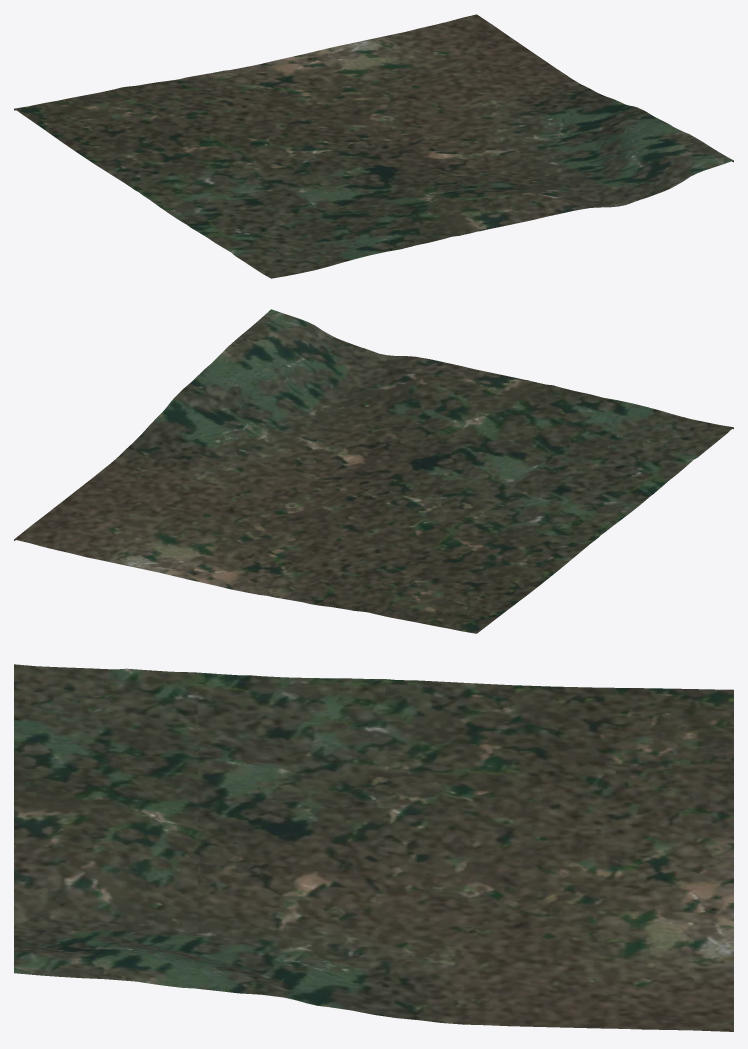
3 renders of one model, top to bottom at view 1: azimuth 30°, elevation 25°; view 2: azimuth 150°, elevation 25°; view 3: azimuth 270°, elevation 25°, orthographic. The views are drawn at different scales.
Bounding box in the file's own units: 250 × 22.82 × 241.
1 material, 1 textured.
